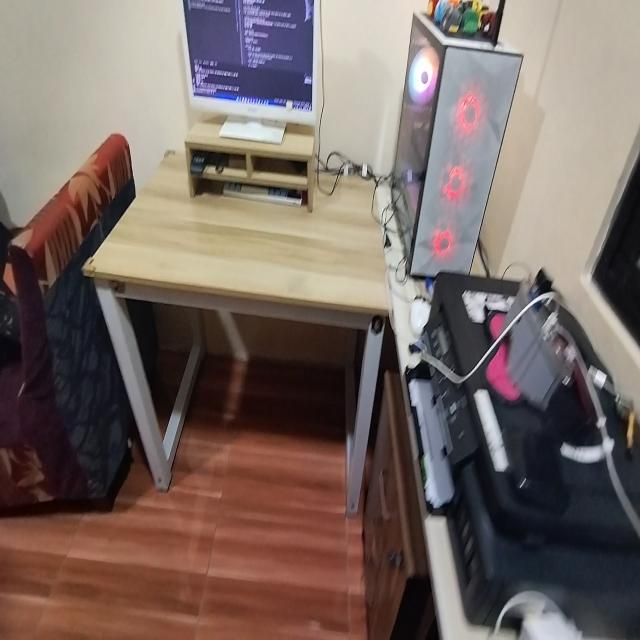table: (90, 140, 393, 528)
